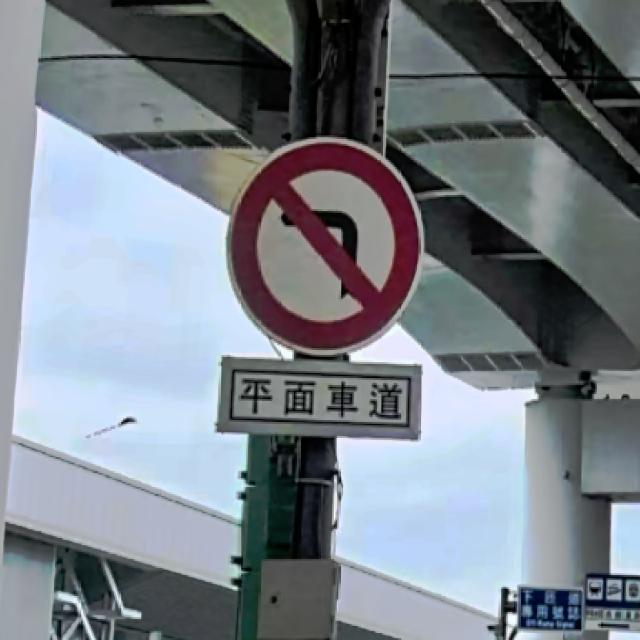noturnleft: (229, 142, 420, 348)
